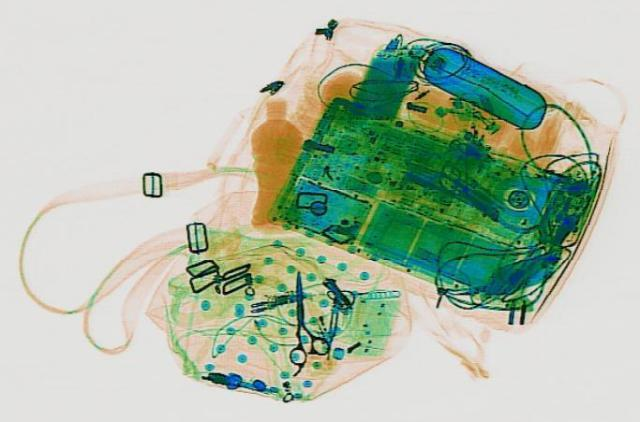Scissors: (277, 268, 331, 361)
